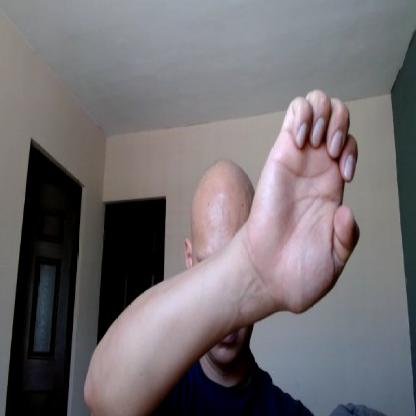E: (251, 87, 362, 318)
